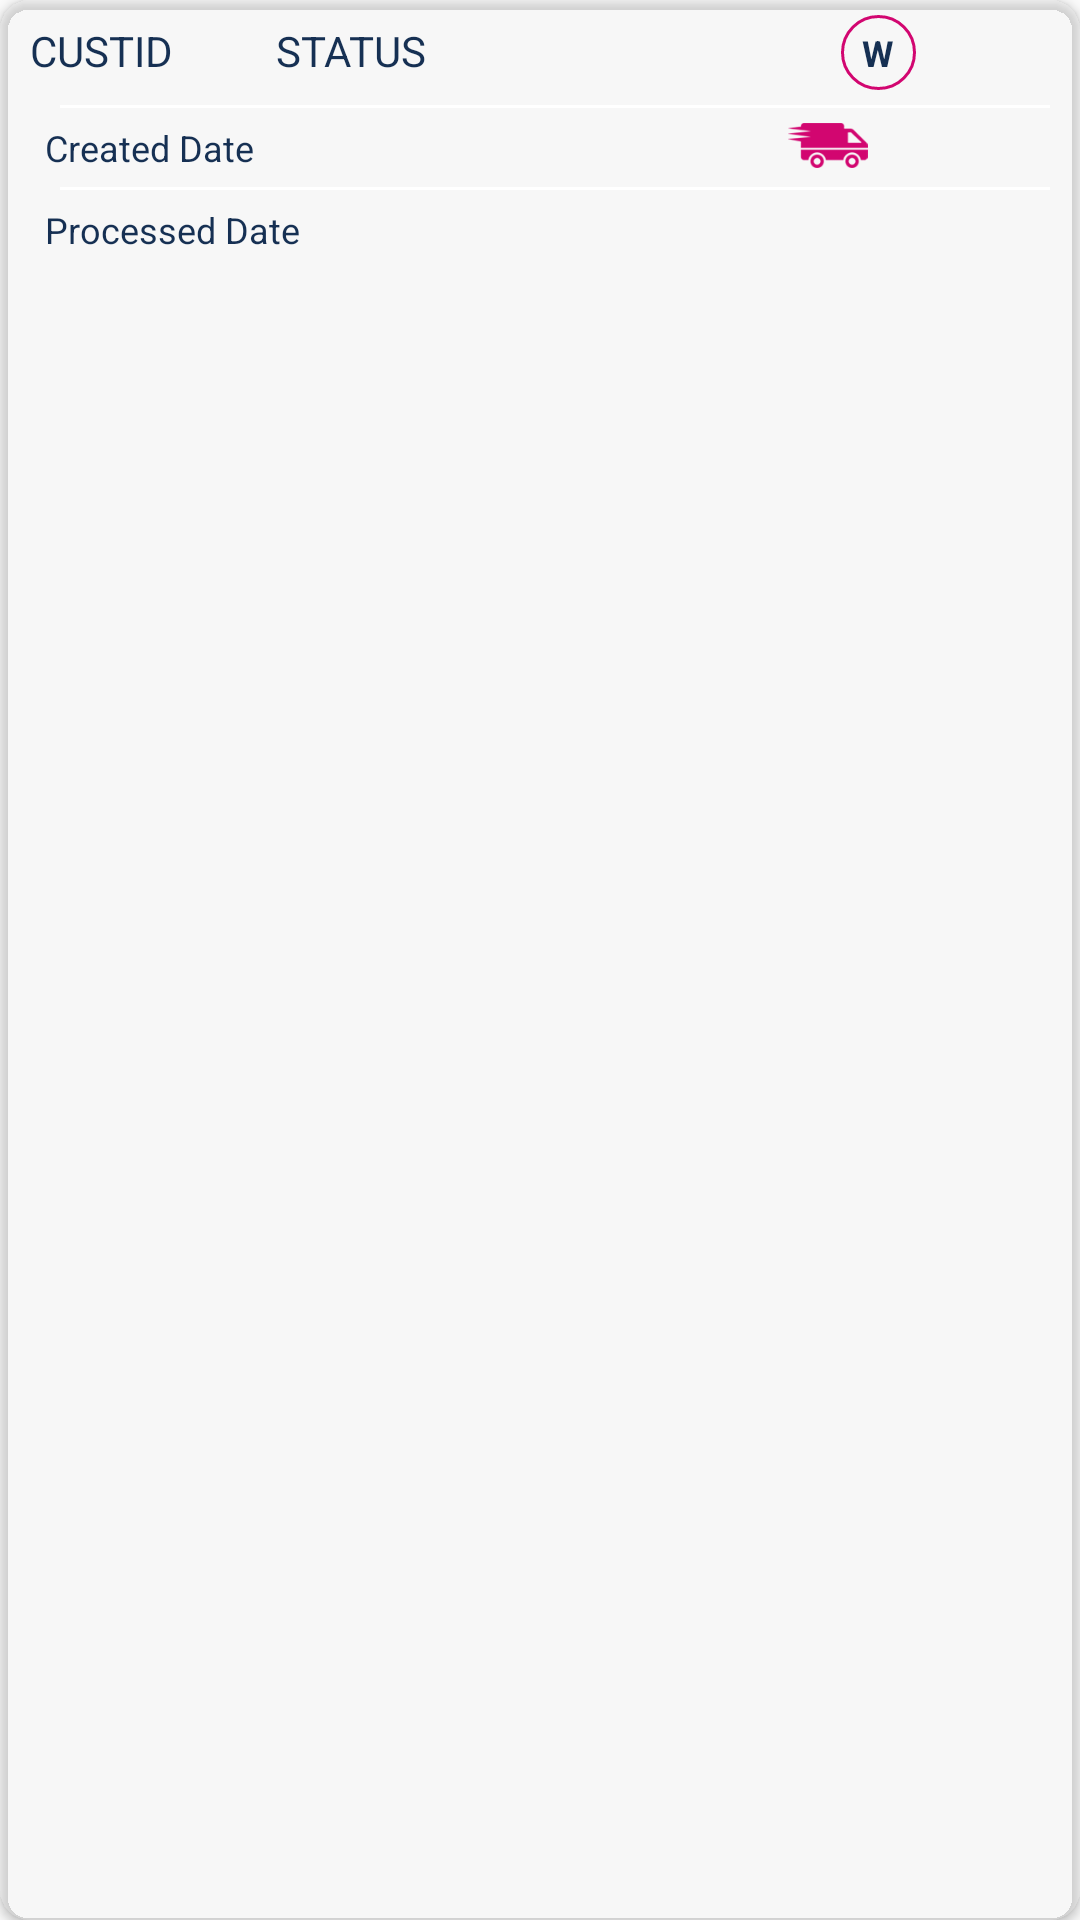

Screen size 1080x1920. Icon name, then its center in pixels as (x,y):
expresscar: (828,145)
